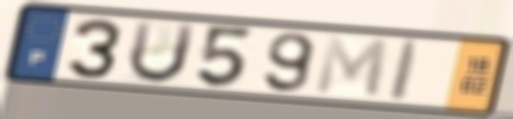3: (66, 16, 125, 80)
5: (196, 23, 258, 92)
9: (261, 31, 318, 95)
I: (386, 38, 425, 104)
M: (312, 33, 392, 101)
U: (125, 18, 200, 86)
